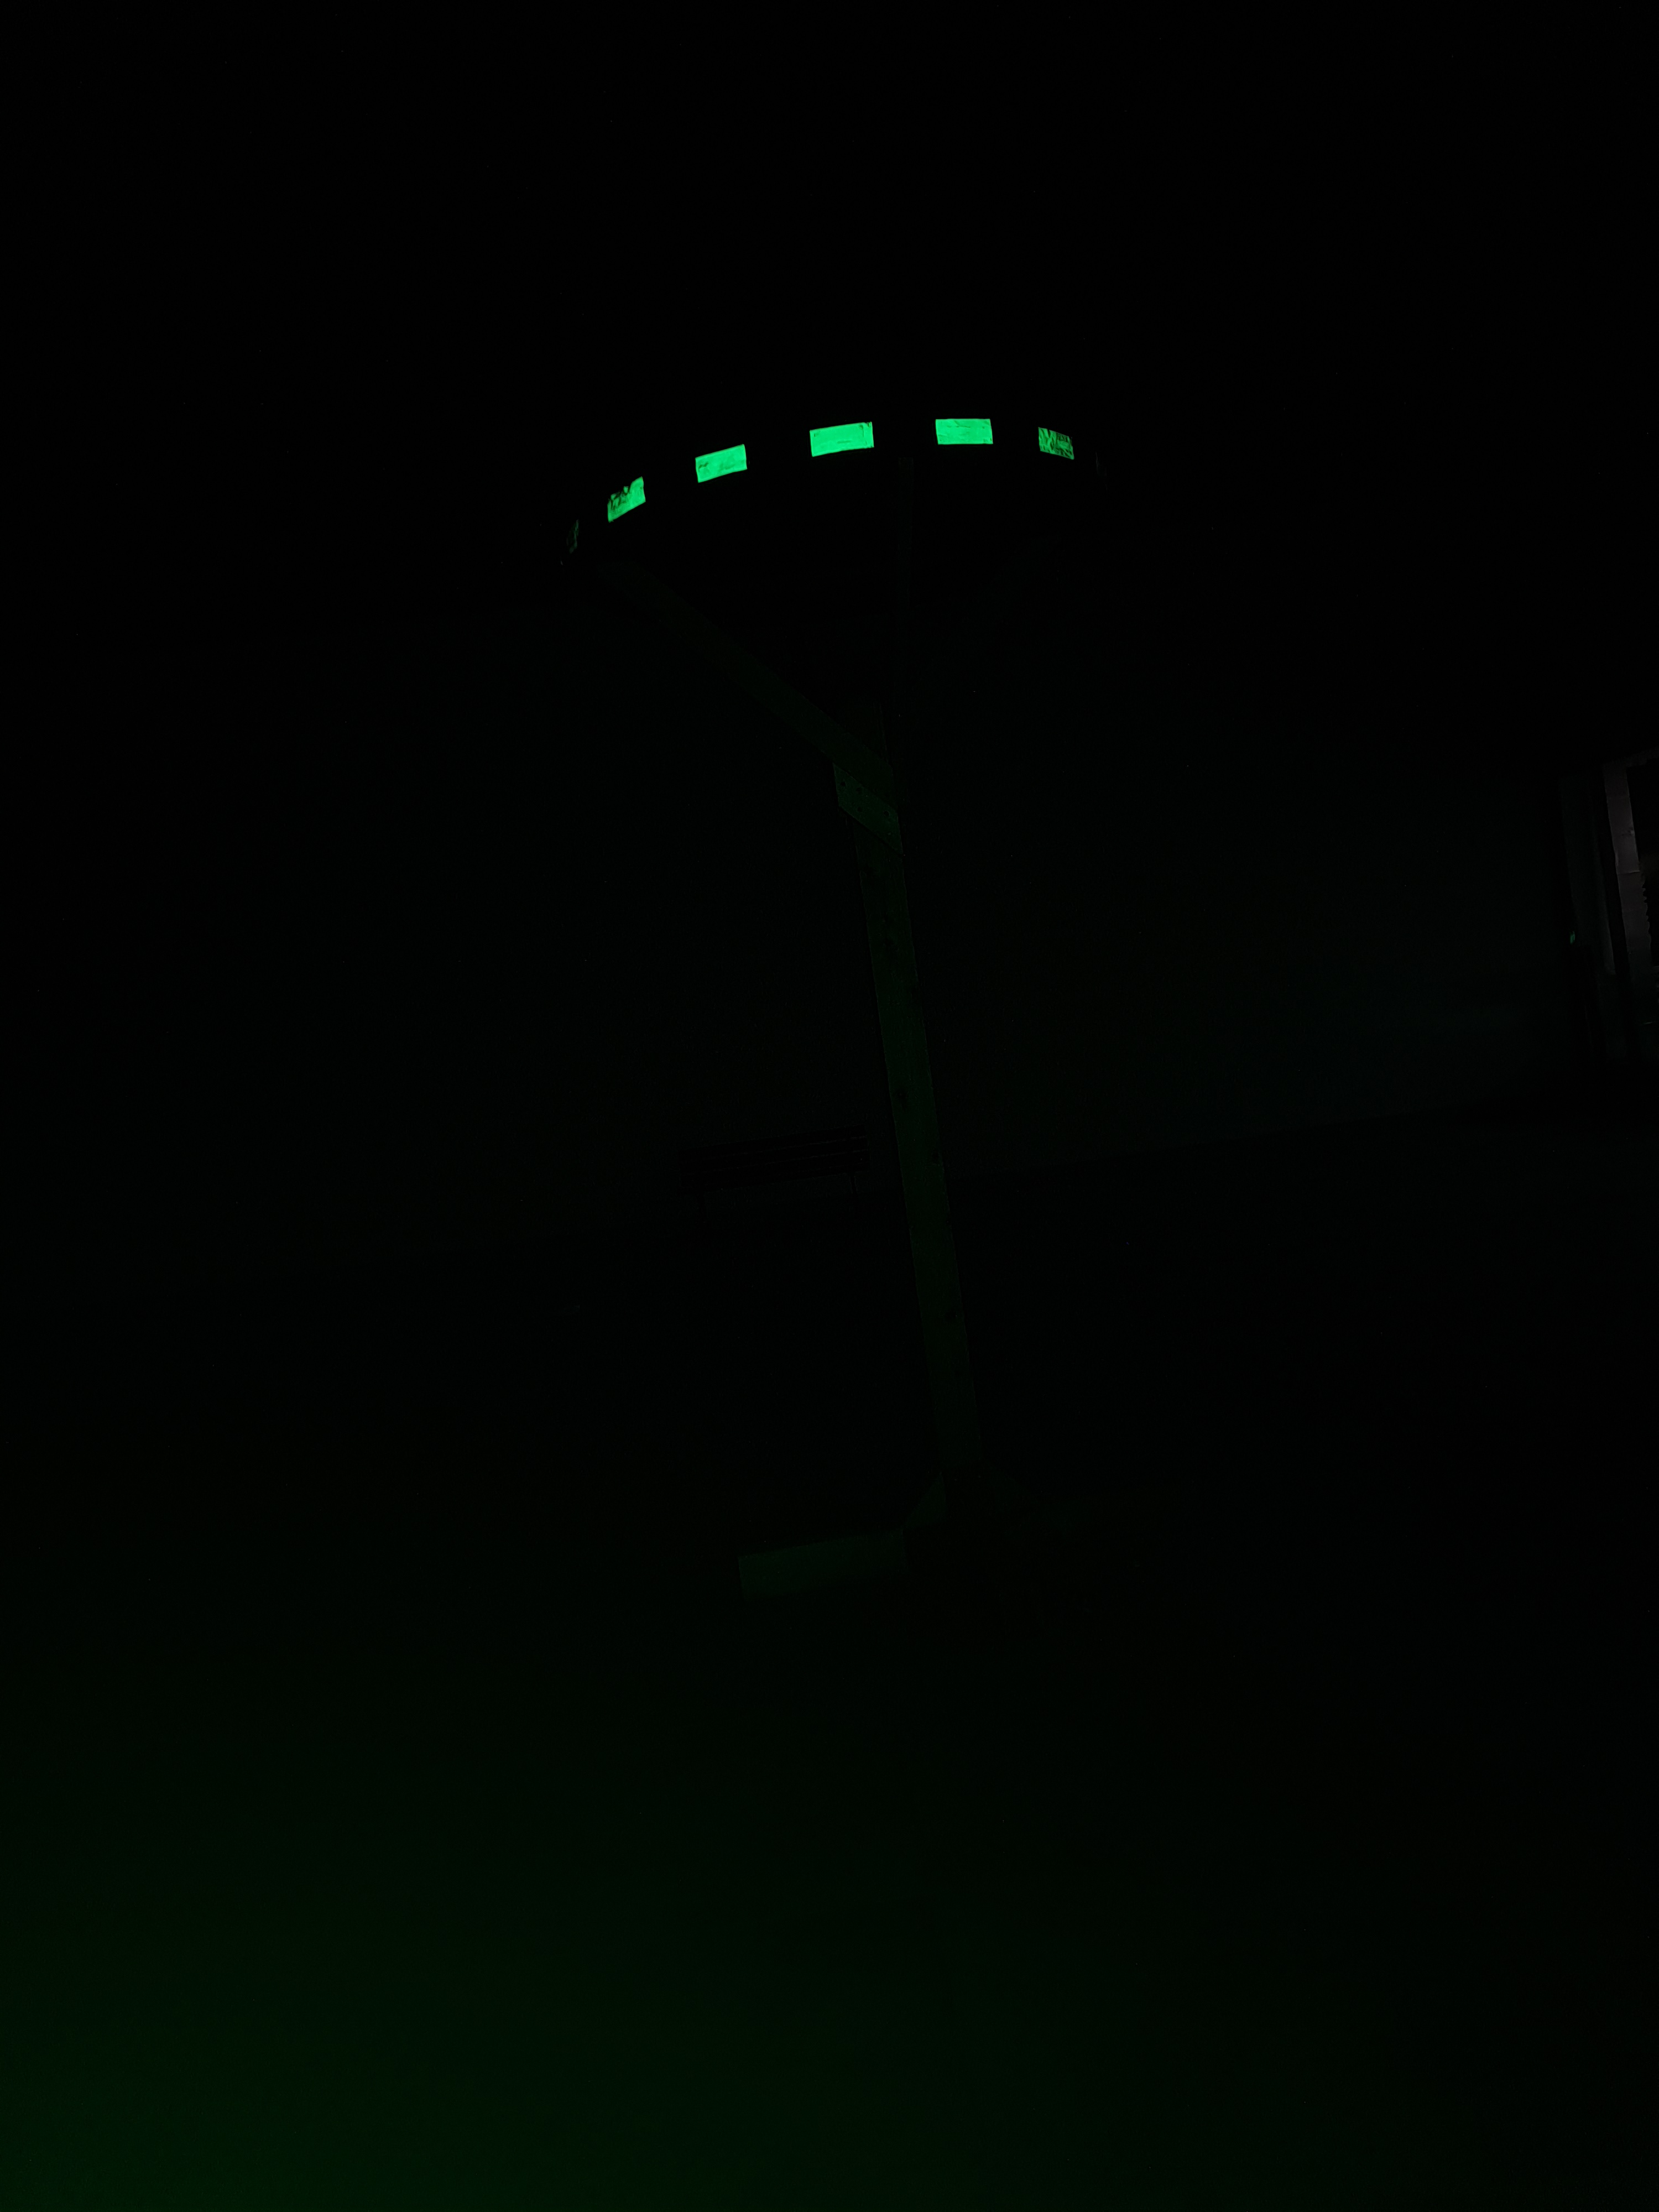hoop: (605, 416, 1079, 523)
